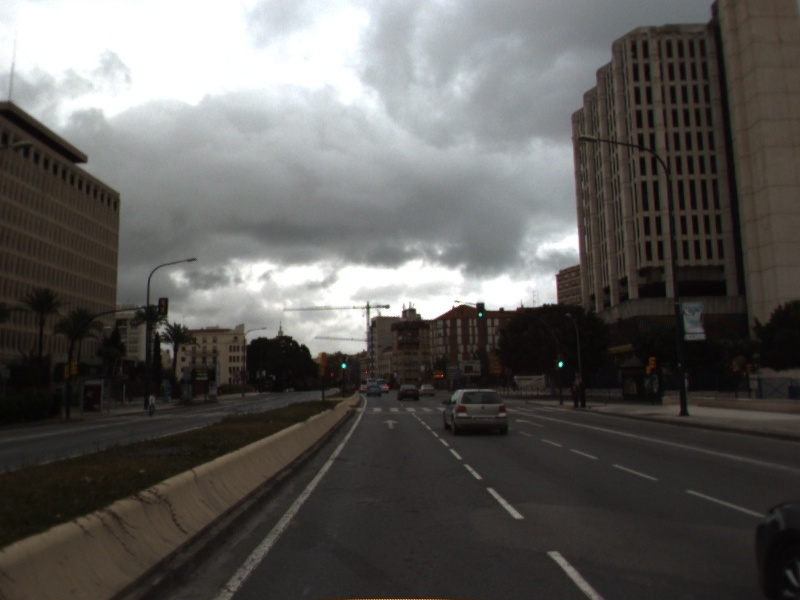STRAIGHT: (513, 416, 548, 430), (379, 417, 401, 431)
